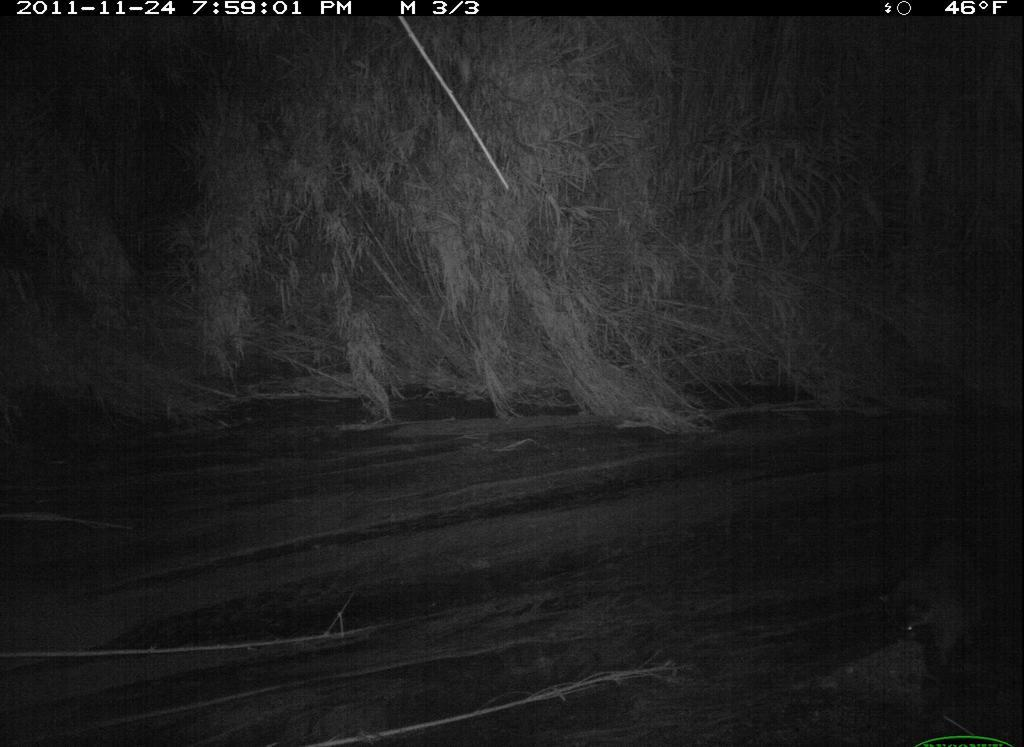raccoon: (857, 504, 1009, 696)
